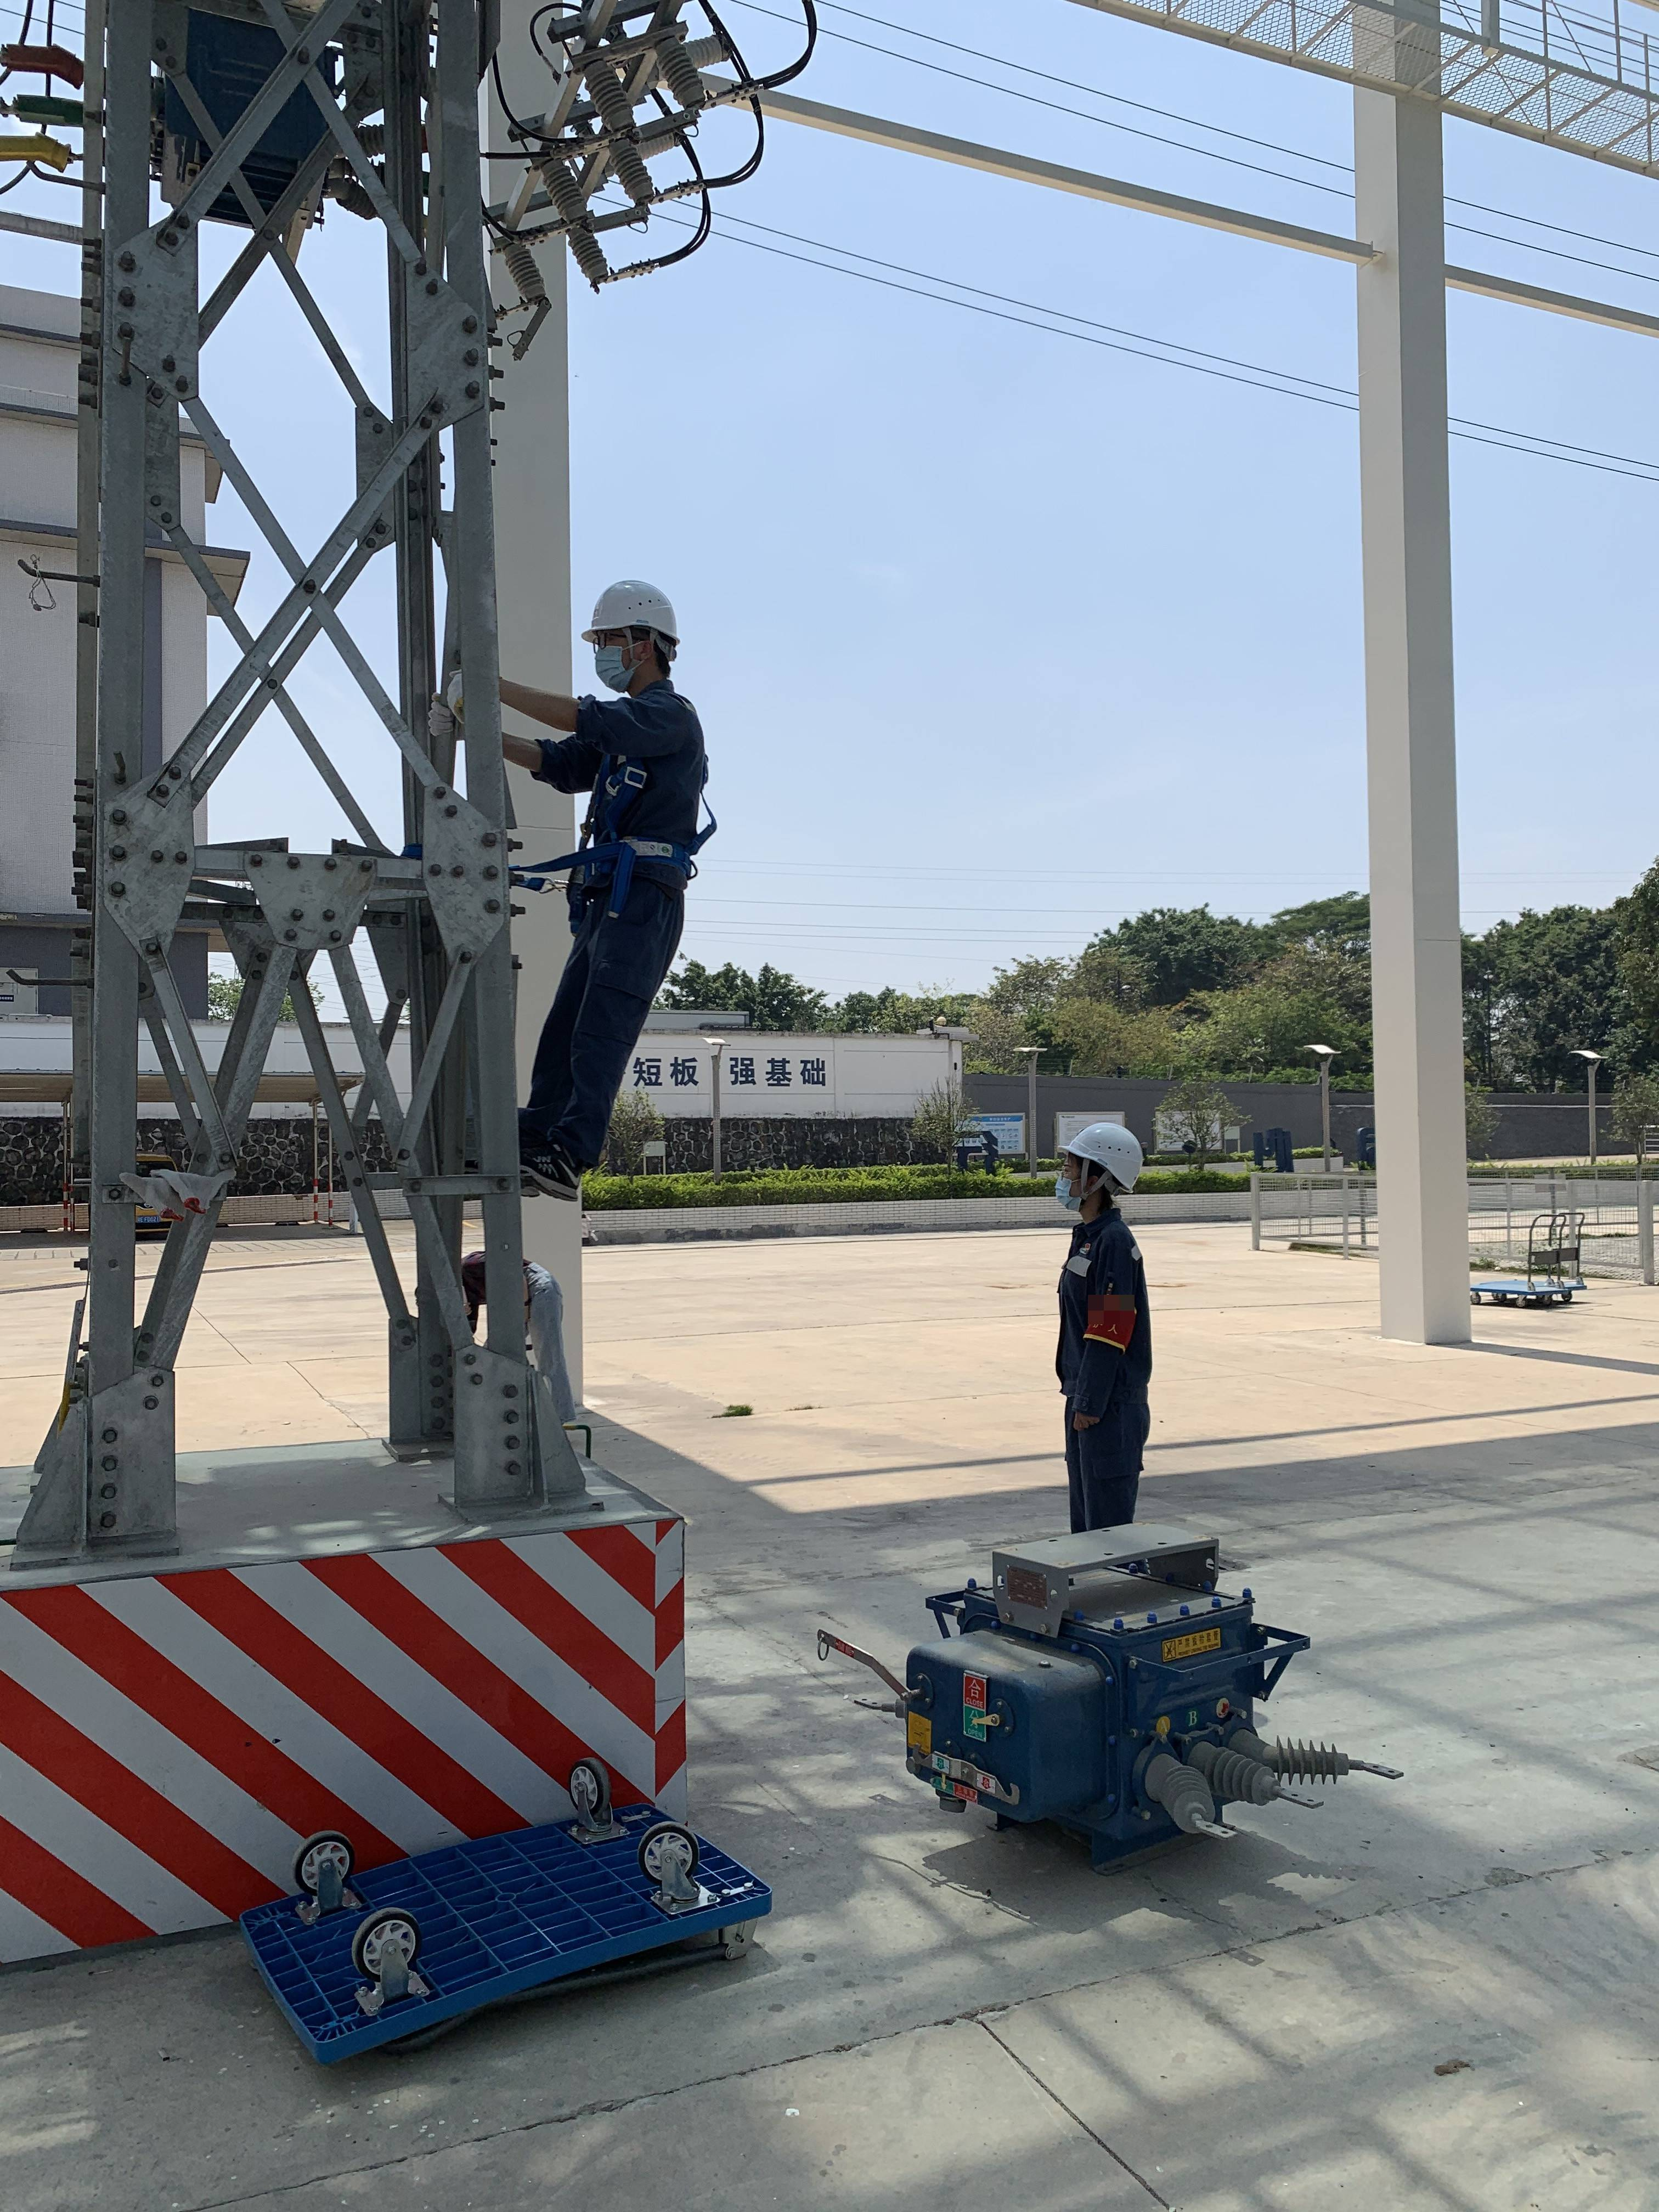downsuit: (554, 890, 697, 1153), (1072, 1411, 1161, 1529)
upsuit: (572, 697, 695, 885), (1053, 1240, 1161, 1400)
wrongtop: (505, 674, 615, 740), (500, 732, 580, 787)
